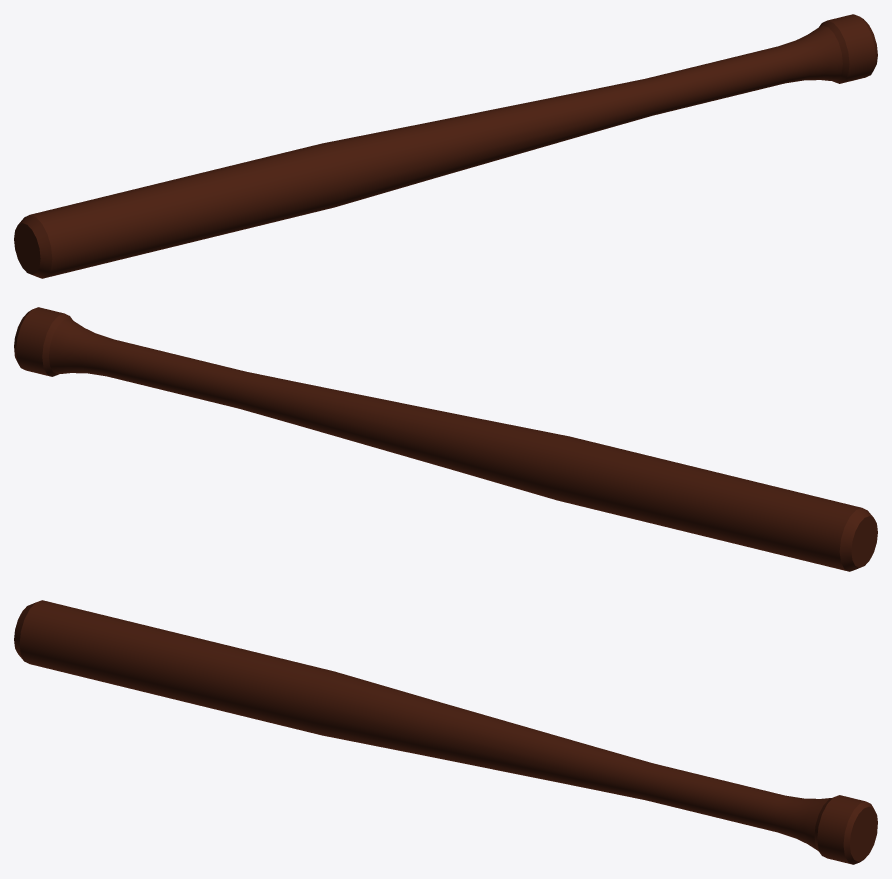
Rendered from BatteBaseBall.fbx.
3 views of the same model, one above another, from view 1: azimuth 30°, elevation 25°; view 2: azimuth 150°, elevation 25°; view 3: azimuth 330°, elevation 25° (orthographic).
Parts seen in each view (by area): view 1: BatteBaseBall; view 2: BatteBaseBall; view 3: BatteBaseBall.
Boxes of the visible parts, x1=… form: BatteBaseBall: x1=14, y1=14, x2=877, y2=278; BatteBaseBall: x1=14, y1=307, x2=877, y2=571; BatteBaseBall: x1=14, y1=600, x2=877, y2=864.
Bounding box in the file's own units: 114 × 7.74 × 7.74.
